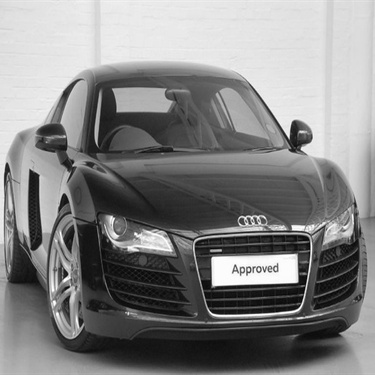car: (1, 56, 369, 351)
